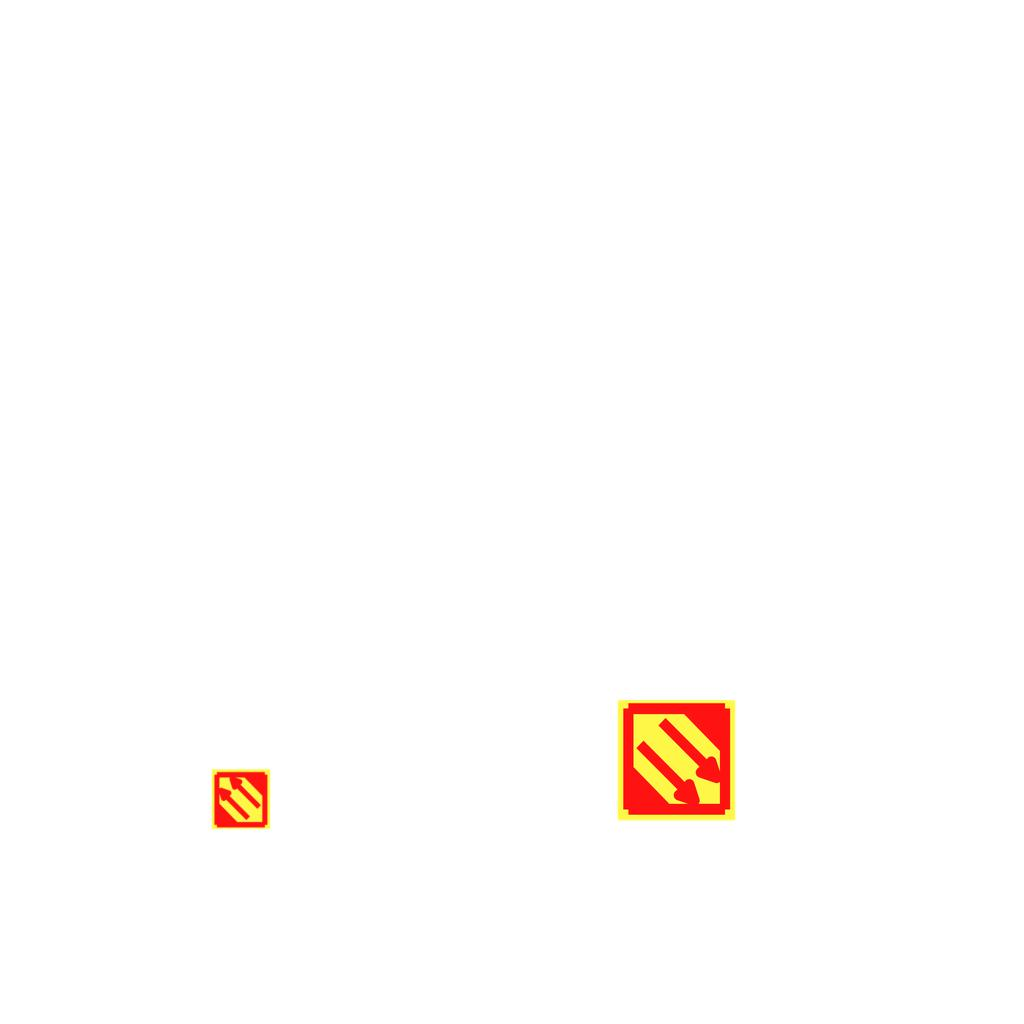ASR_Ansaugrauchmelder: (614, 698, 739, 823), (210, 768, 272, 830)
